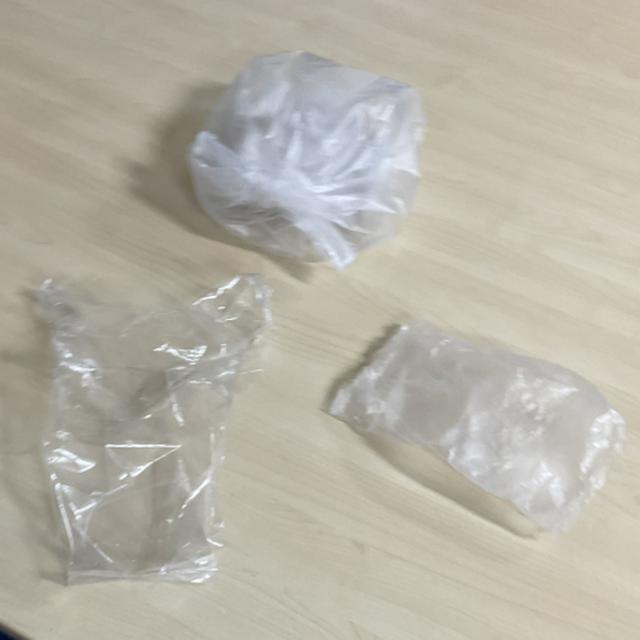Single-layer Plastic: (36, 274, 271, 582), (330, 320, 625, 534), (188, 51, 425, 270)
